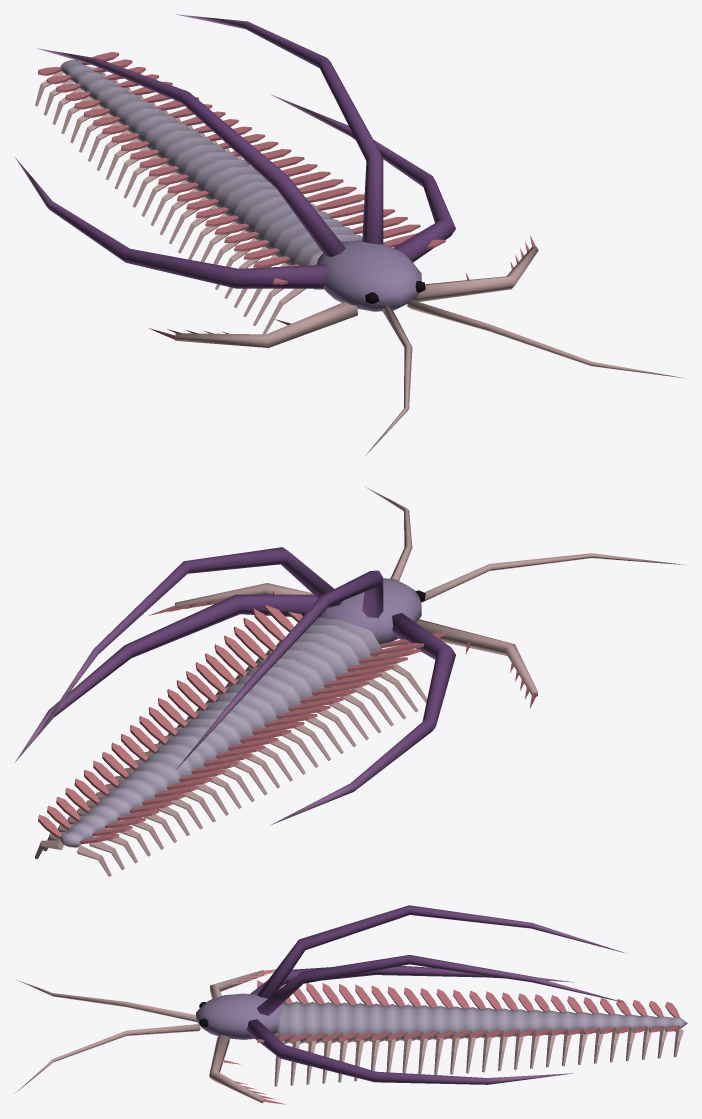
Rendered from Marrella.fbx.
The picture shows the model from 3 angles, top to bottom: view 1: azimuth 30°, elevation 25°; view 2: azimuth 150°, elevation 25°; view 3: azimuth 270°, elevation 25°; orthographic projection. The views are drawn at different scales.
Visible parts, largest first — view 1: Marrella; view 2: Marrella; view 3: Marrella.
Boxes of the visible parts, left/top/right/bottom form: Marrella: left=14, top=14, right=686, bottom=455; Marrella: left=15, top=487, right=684, bottom=876; Marrella: left=15, top=905, right=687, bottom=1104.
Bounding box in the file's own units: 0.66 × 0.2865 × 1.38.
